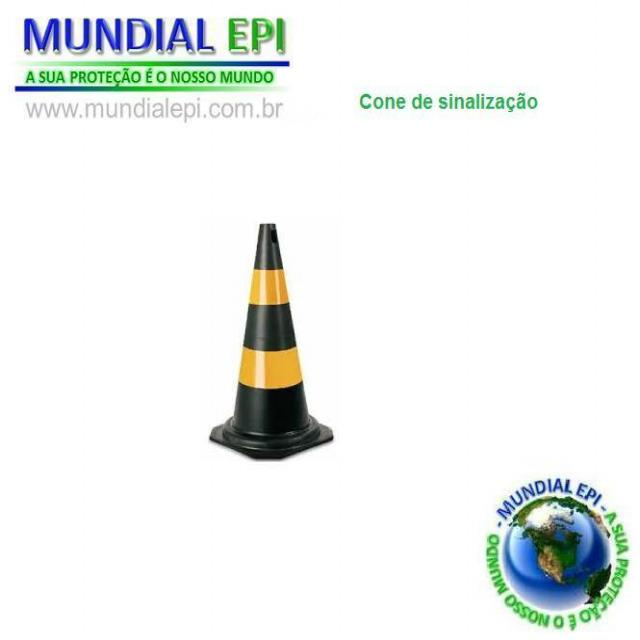cone: (212, 221, 330, 448)
